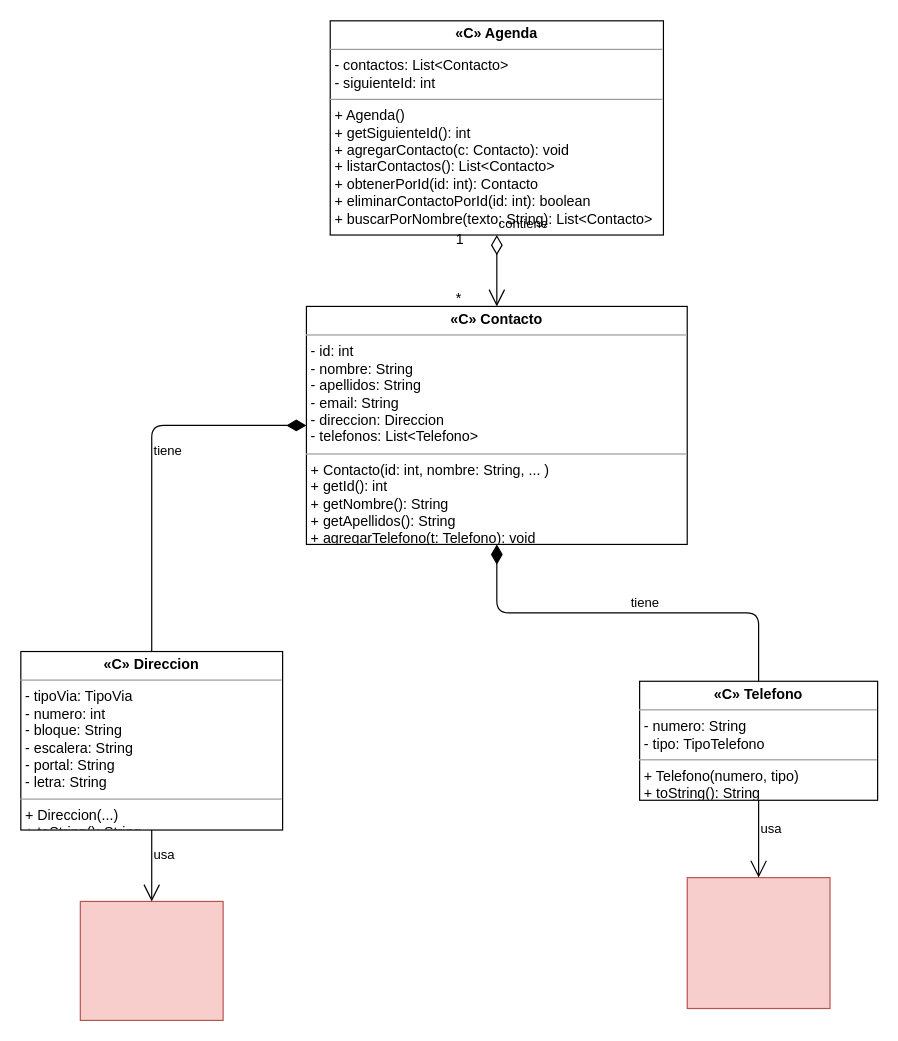
This 898x1041 diagram has some shape labels left out. Here are the shapes that lost their labels. From the top down, the centre of each, then its label:
pixel 151 960: «E» TipoVia CALLE AVENIDA PLAZA CARRETERA
pixel 758 942: «E» TipoTelefono CASA TRABAJO PERSONAL MOVIL OTRO
